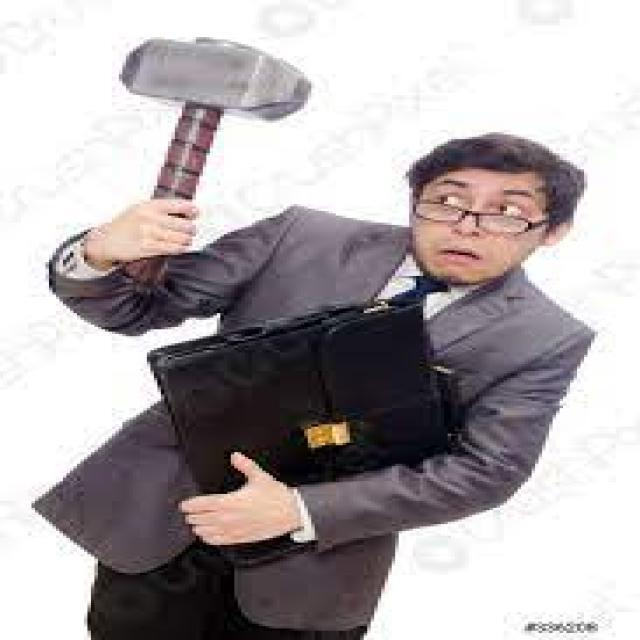hammer: (90, 22, 326, 312)
